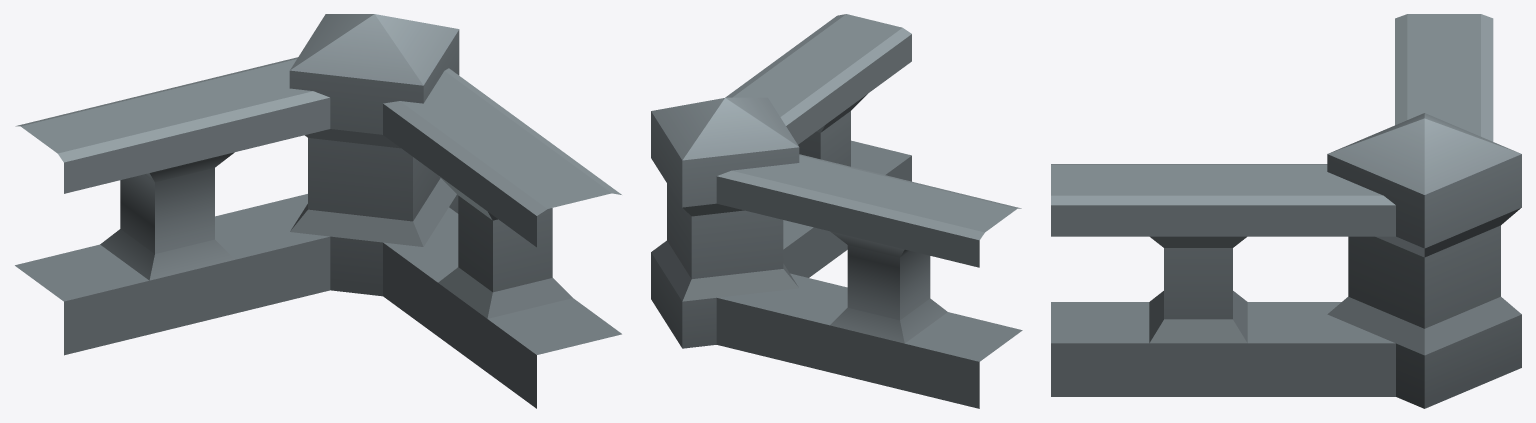
Rendered from barrier_corner.gltf.
3 renders of one model, left to right at view 1: azimuth 30°, elevation 25°; view 2: azimuth 150°, elevation 25°; view 3: azimuth 270°, elevation 25°, orthographic. The views are drawn at different scales.
Visible parts, largest first — view 1: barrier_corner; view 2: barrier_corner; view 3: barrier_corner.
Boxes of the visible parts, bbox=[...] form: barrier_corner: bbox=[15, 14, 621, 408]; barrier_corner: bbox=[651, 14, 1022, 408]; barrier_corner: bbox=[1051, 14, 1521, 408].
Bounding box in the file's own units: 2.39 × 1.4 × 2.39.
1 material, 1 textured.
